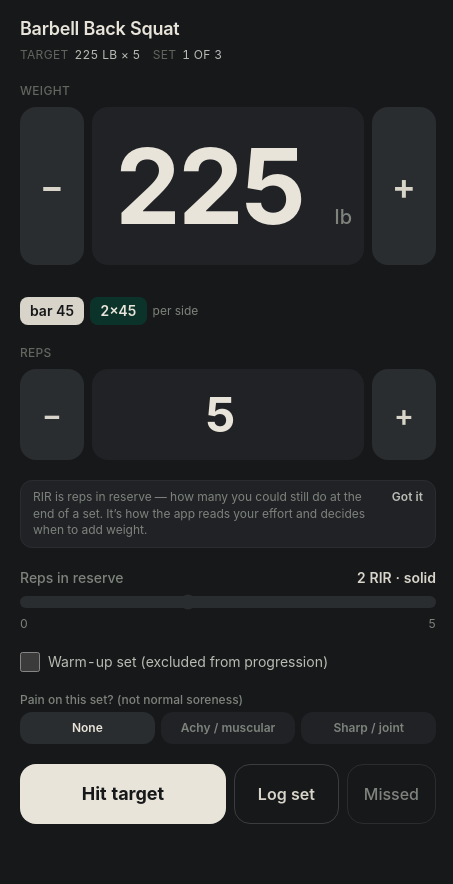
Test case: LogSet screen › one-tap "Hit target" logs a set at the target
The image size is (453, 884).
Click the button "Hit target" at (123, 794), box [20,764,226,824]
(page scrolled)
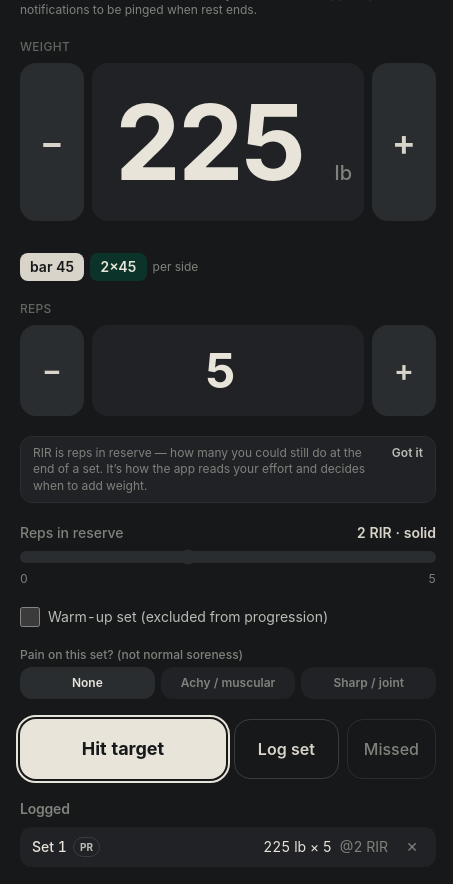
Now the text "225 lb × 5@2 RIR" is shown, box [263,837,388,857]
